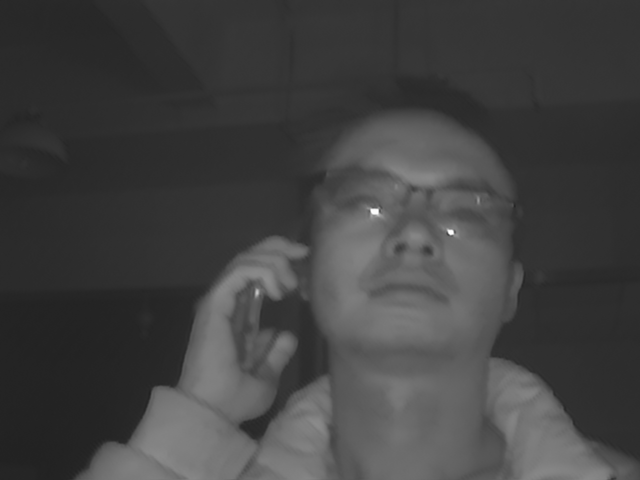hand: (175, 231, 311, 425)
